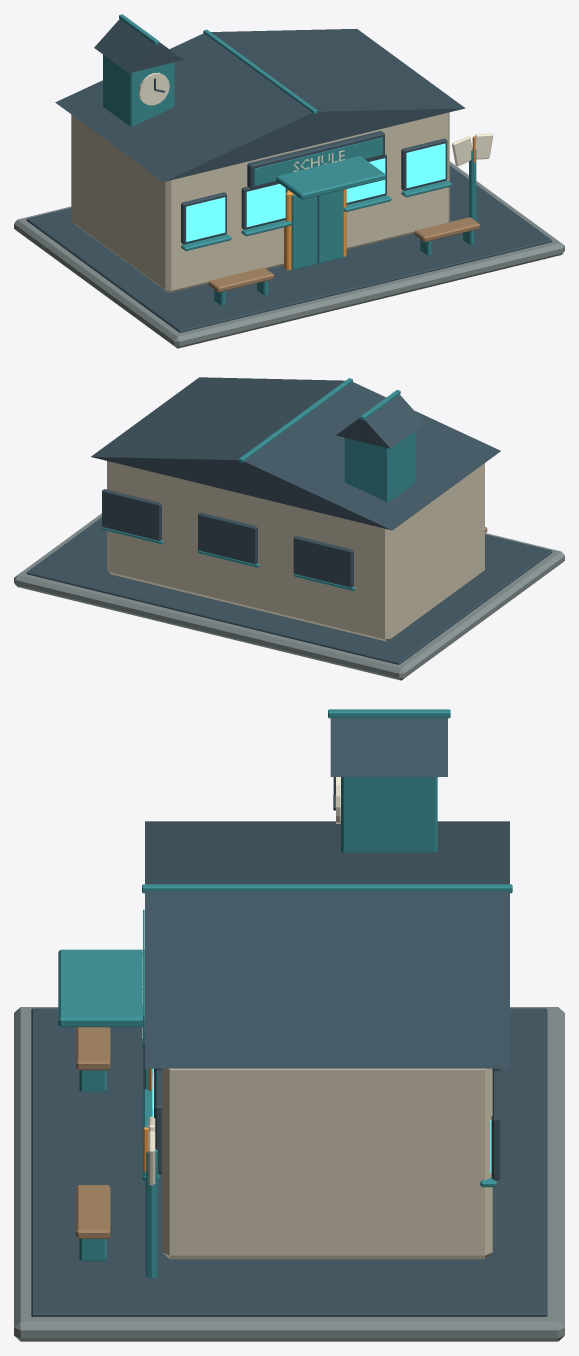
Rendered from school.glb.
3 views of the same model, one above another, from view 1: azimuth 30°, elevation 25°; view 2: azimuth 150°, elevation 25°; view 3: azimuth 270°, elevation 25° (orthographic). The views are drawn at different scales.
Visible parts, largest first — view 1: school; view 2: school; view 3: school.
Part boxes in pixels (x1,y1,x2,y2): school: (14, 14, 564, 348); school: (14, 377, 564, 680); school: (14, 709, 564, 1341).
Size of the model in its own units: 11 by 6 by 8.
